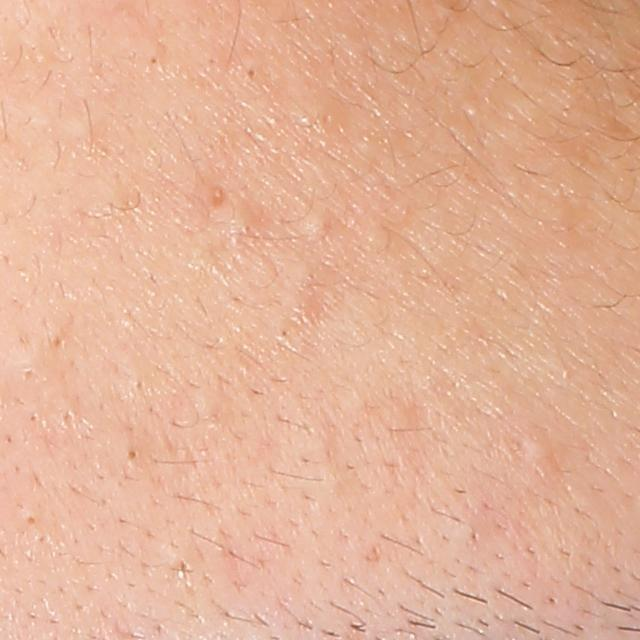comedo: (514, 422, 557, 483), (295, 212, 333, 244), (14, 504, 49, 537), (137, 45, 166, 77), (48, 332, 71, 353)
